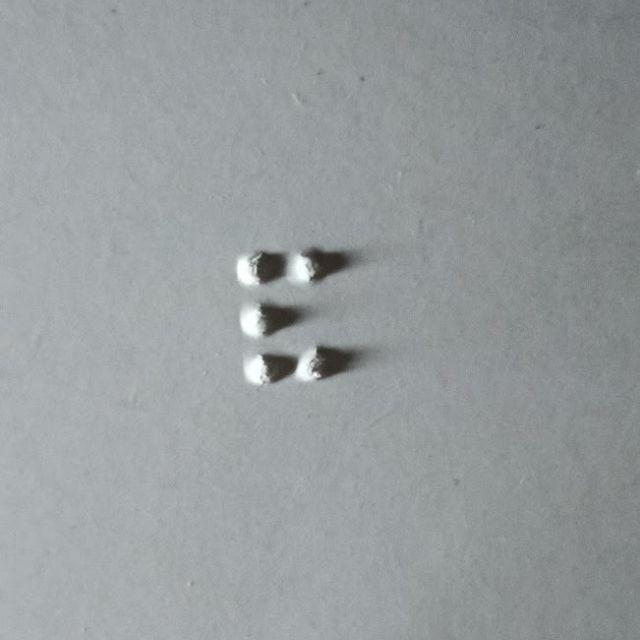ay: (240, 247, 348, 385)
